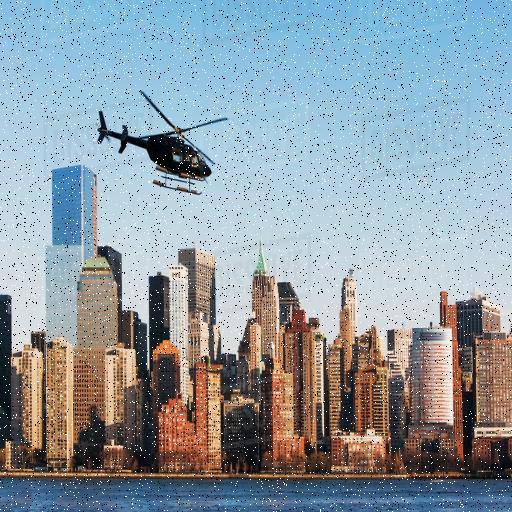helicopter: (98, 90, 228, 197)
